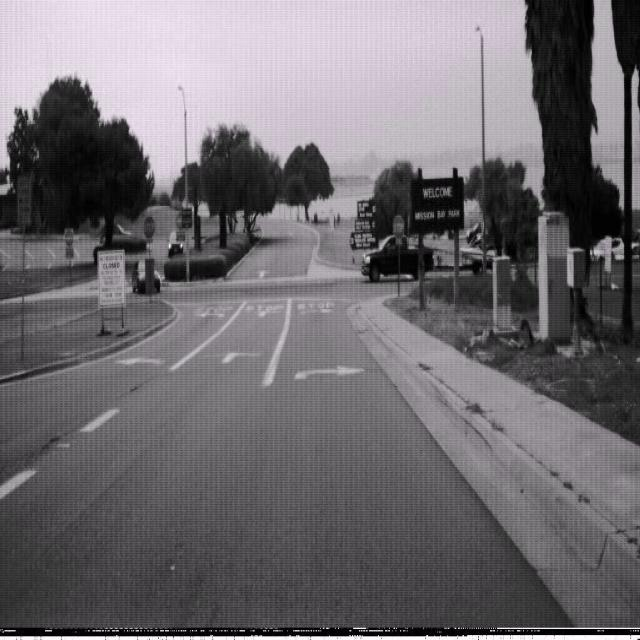stop: (142, 213, 156, 239), (392, 213, 403, 240)
